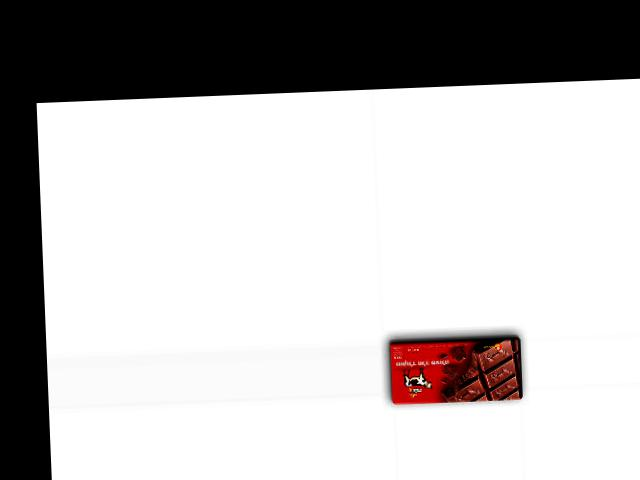chocolate: (386, 332, 525, 407)
